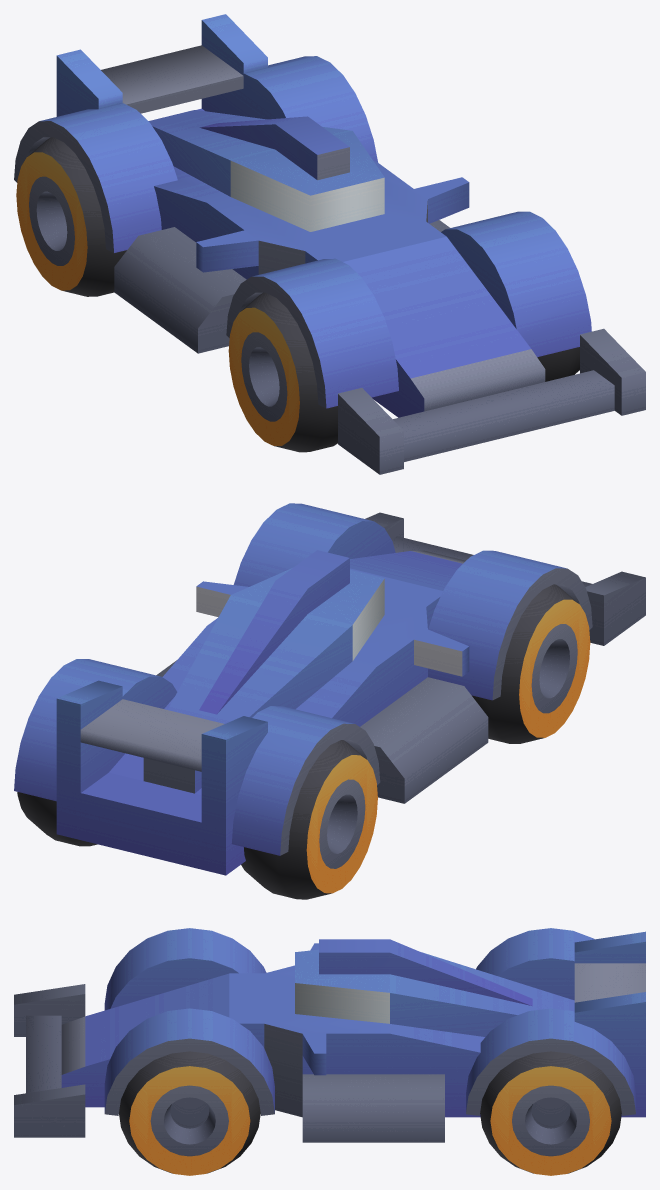
Rendered from race-future.glb.
The picture shows the model from 3 angles, top to bottom: view 1: azimuth 30°, elevation 25°; view 2: azimuth 150°, elevation 25°; view 3: azimuth 270°, elevation 25°; orthographic projection. The views are drawn at different scales.
Parts seen in each view (by area): view 1: body, wheel-front-right, wheel-back-right, wheel-front-left; view 2: body, wheel-back-right, wheel-front-right, wheel-back-left; view 3: body, wheel-back-left, wheel-front-left.
Boxes of the visible parts, <box> form: body: <box>14,14,645,474</box>; wheel-front-right: <box>228,292,337,452</box>; wheel-back-right: <box>16,137,126,296</box>; wheel-front-left: <box>537,347,579,381</box>; body: <box>14,503,645,875</box>; wheel-back-right: <box>241,740,377,899</box>; wheel-front-right: <box>472,584,590,743</box>; wheel-back-left: <box>17,792,97,846</box>; body: <box>14,928,645,1142</box>; wheel-back-left: <box>480,1051,621,1175</box>; wheel-front-left: <box>119,1051,260,1175</box>.
Size of the model in its own units: 1.2 by 0.8325 by 2.66.
Materials: 1 (1 with a texture image).
